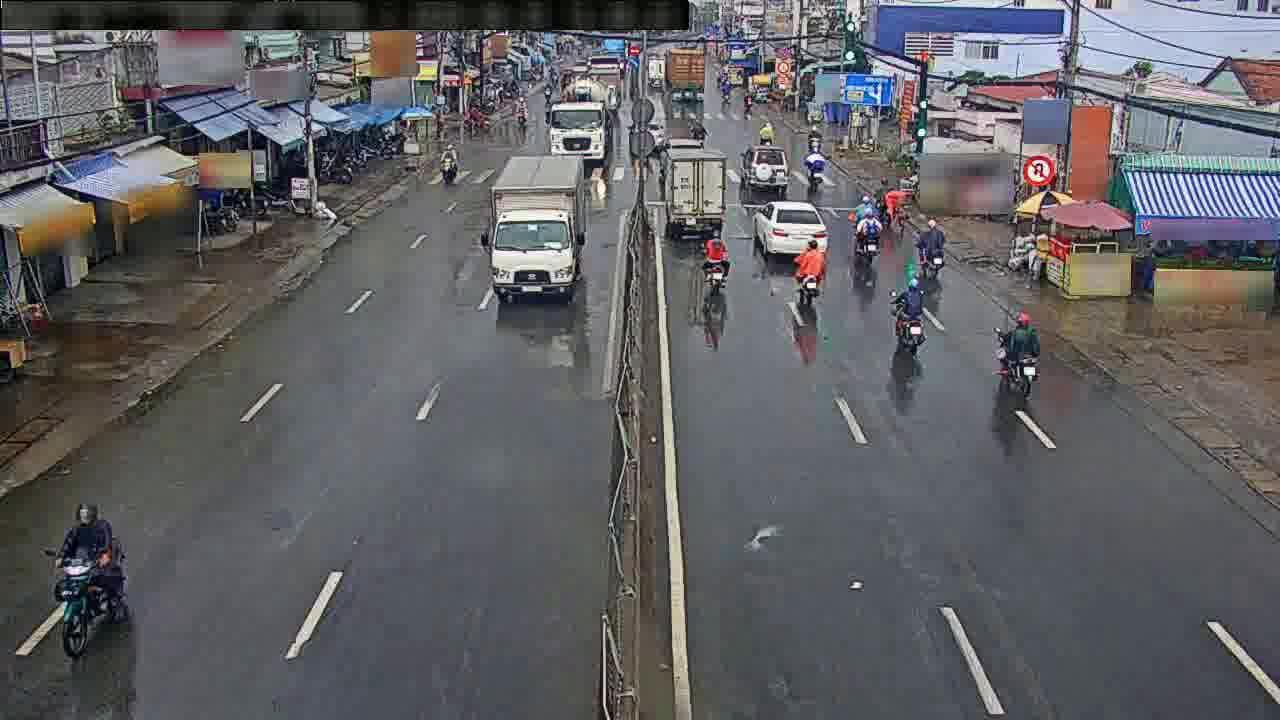8: (488, 155, 580, 300), (664, 150, 720, 237), (552, 79, 610, 162)
container: (750, 200, 828, 254), (738, 146, 786, 186)
motorbike: (48, 503, 135, 651), (995, 312, 1042, 388), (892, 272, 929, 360), (701, 229, 732, 300), (915, 218, 949, 271), (877, 176, 909, 221), (434, 138, 461, 191), (796, 237, 817, 302), (857, 212, 880, 261), (804, 147, 826, 189), (854, 195, 880, 230), (757, 120, 776, 160), (690, 113, 707, 150), (808, 124, 821, 160)
